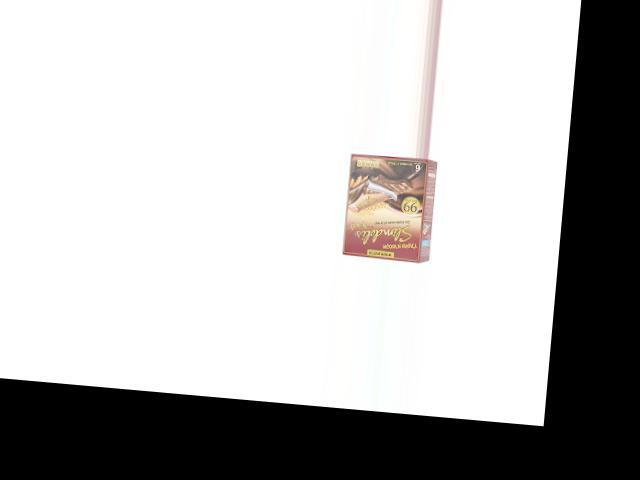chocolate: (332, 150, 443, 265)
